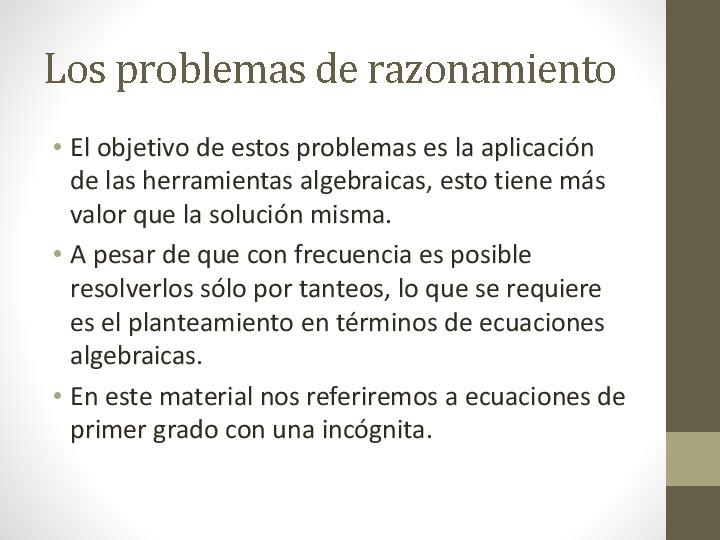paragraph: (43, 114, 657, 473)
title: (32, 29, 641, 105)
